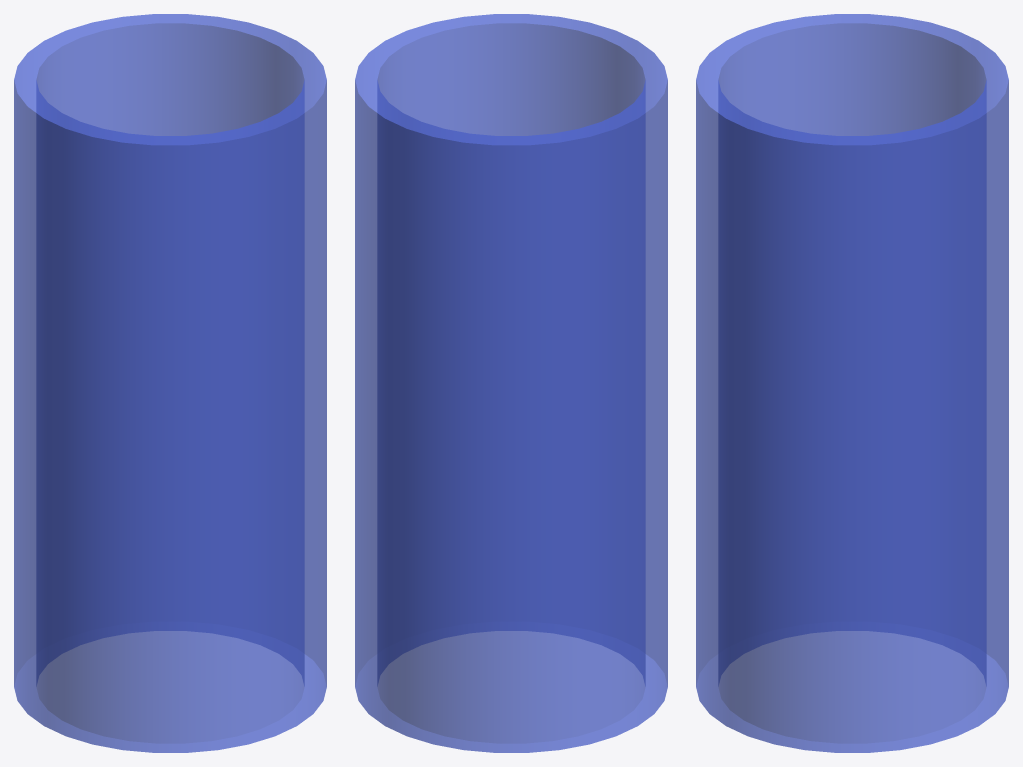
Rendered from boli03.dae.
3 views of the same model, side by side, from view 1: azimuth 30°, elevation 25°; view 2: azimuth 150°, elevation 25°; view 3: azimuth 270°, elevation 25° (orthographic).
Visible parts, largest first — view 1: Tube002; view 2: Tube002; view 3: Tube002.
Boxes of the visible parts, box(x1,y1,x2,y2) form: Tube002: box(14, 14, 326, 752); Tube002: box(355, 14, 667, 752); Tube002: box(696, 14, 1008, 752).
Bounding box in the file's own units: 13.92 × 14 × 30.
